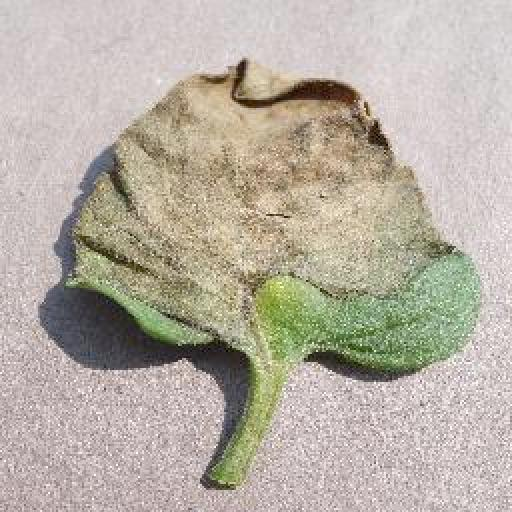disease_tomato: (62, 57, 482, 383)
